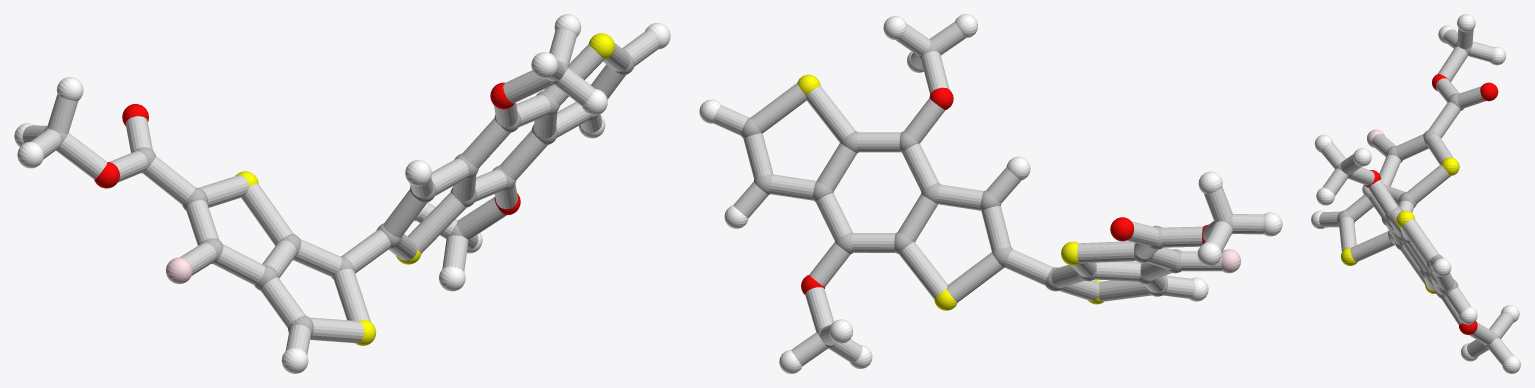
File: Dimethoxy_Benzodithiophene_Phi_25_Theta_260_Methylcarbonyl_3_Fluoro_Thienothiophene.glb
3 views of the same model, side by side, from view 1: azimuth 30°, elevation 25°; view 2: azimuth 150°, elevation 25°; view 3: azimuth 270°, elevation 25° (orthographic). The views are drawn at different scales.
Parts seen in each view (by area): view 1: grp15205, grp8689, grp1, grp13395, grp7241, grp14843; view 2: grp15205, grp8689, grp1, grp13395, grp7241; view 3: grp15205, grp8689, grp1, grp7241, grp13395.
Part boxes in pixels (x1,y1,x2,y2): grp15205: [22, 28, 659, 354]; grp8689: [14, 14, 670, 373]; grp1: [43, 49, 634, 336]; grp13395: [94, 82, 520, 215]; grp7241: [235, 33, 614, 345]; grp14843: [166, 257, 192, 283]; grp15205: [713, 22, 1263, 365]; grp8689: [699, 14, 1282, 373]; grp1: [741, 43, 1232, 348]; grp13395: [801, 87, 1208, 294]; grp7241: [797, 74, 1103, 310]; grp15205: [1319, 28, 1513, 364]; grp8689: [1311, 14, 1520, 373]; grp1: [1336, 41, 1499, 347]; grp7241: [1341, 157, 1459, 293]; grp13395: [1364, 74, 1498, 334].
Size of the model in its own units: 16.7 by 7.96 by 6.74.
